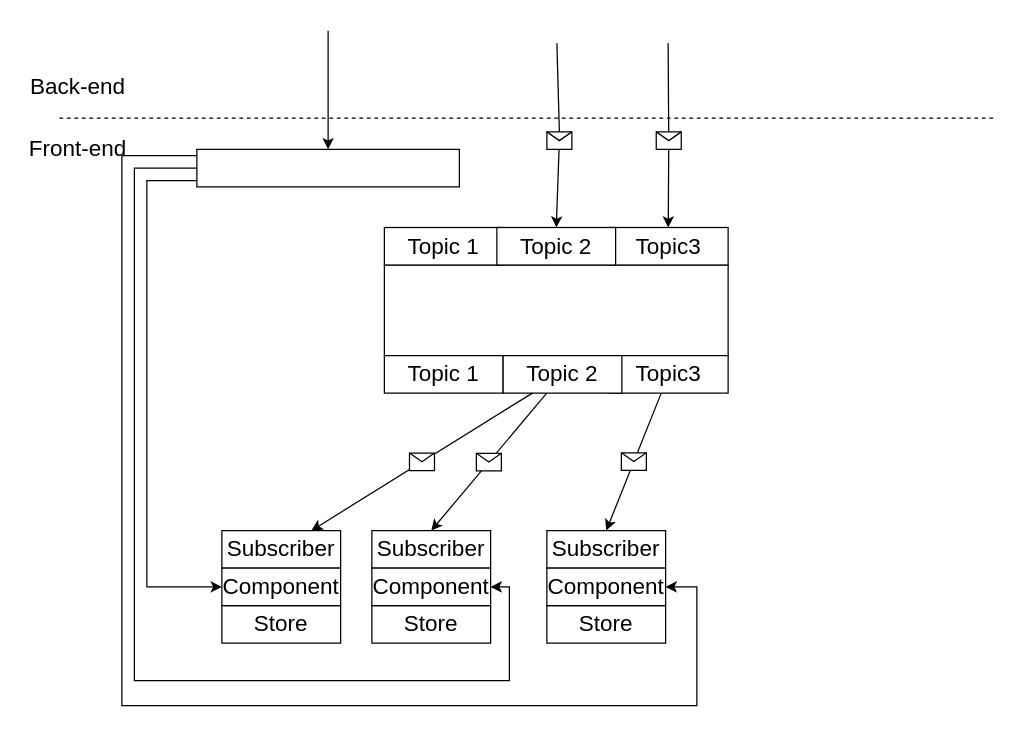
Some shapes in this 1020 by 738 pixel diagram are drawn without their labels. The centre of each missing label's shape, as x and y in pixels:
Message Broker: [555,310]
UI: [327,167]
